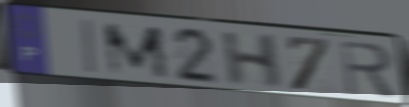2: (171, 26, 220, 86)
7: (285, 35, 334, 93)
H: (219, 30, 284, 90)
I: (81, 18, 100, 77)
M: (100, 22, 173, 80)
R: (338, 38, 399, 100)
